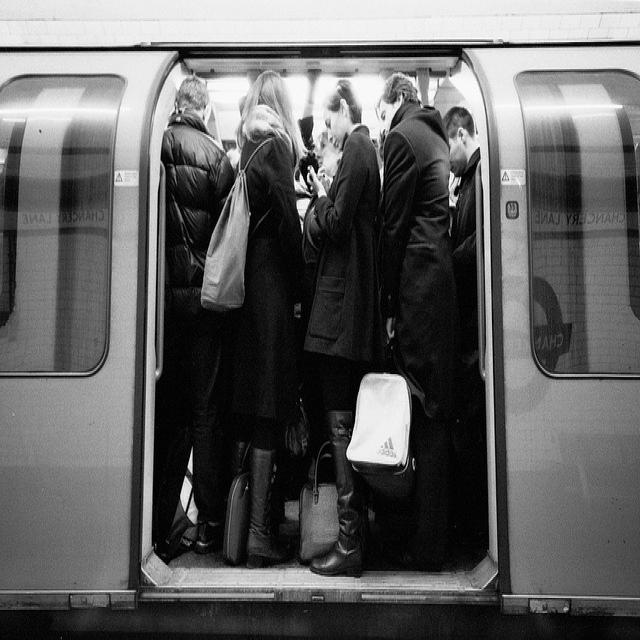body: (200, 66, 306, 579), (289, 48, 381, 572), (293, 75, 380, 582), (149, 75, 238, 560), (373, 78, 452, 577), (151, 99, 484, 180), (440, 105, 491, 556)
